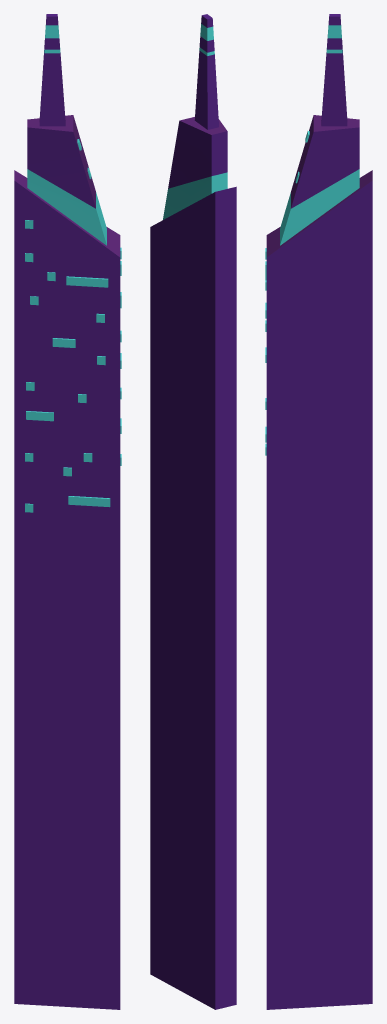
File: Build_sci_fi_6.fbx
3 renders of one model, left to right at view 1: azimuth 90°, elevation 25°; view 2: azimuth 210°, elevation 25°; view 3: azimuth 270°, elevation 25°, orthographic.
Parts seen in each view (by area): view 1: Build_sci_fi_6; view 2: Build_sci_fi_6; view 3: Build_sci_fi_6.
Boxes of the visible parts, bbox=[...] form: Build_sci_fi_6: bbox=[14, 14, 121, 1009]; Build_sci_fi_6: bbox=[150, 14, 236, 1009]; Build_sci_fi_6: bbox=[265, 14, 372, 1009].
Size of the model in its own units: 53.43 by 1077 by 107.
